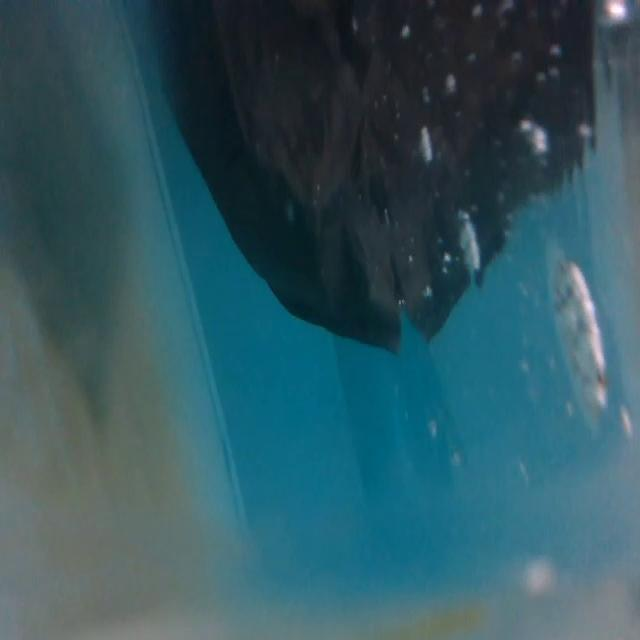plastic bags: (136, 10, 605, 357)
